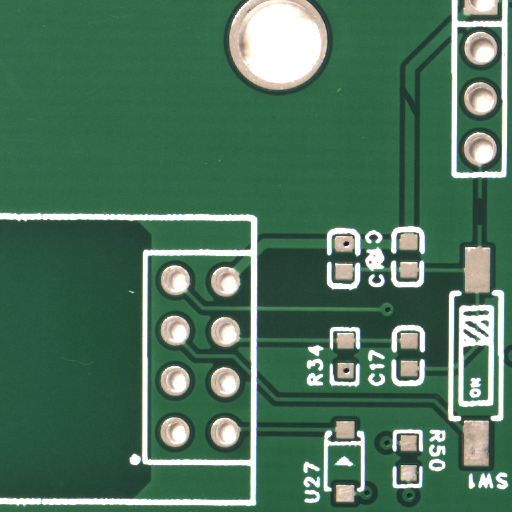Open_circuit: (410, 102, 421, 127), (477, 211, 485, 238)
